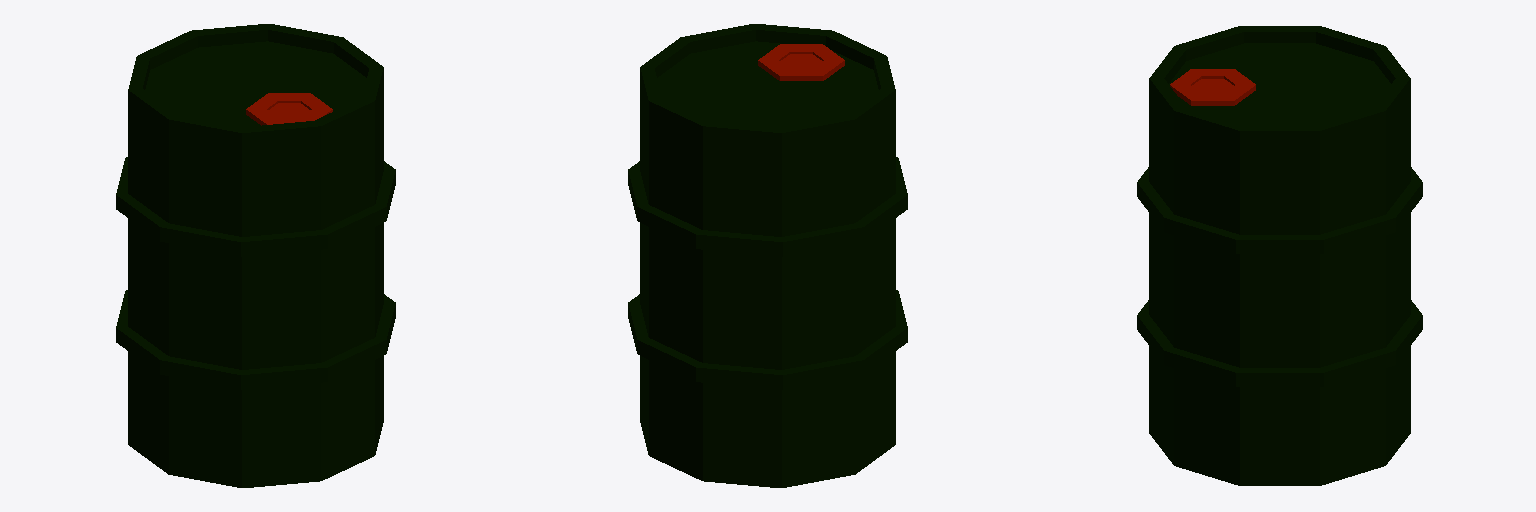
Rendered from OilDrum_01.obj.
3 renders of one model, left to right at view 1: azimuth 30°, elevation 25°; view 2: azimuth 150°, elevation 25°; view 3: azimuth 270°, elevation 25°, orthographic.
Parts seen in each view (by area): view 1: OilDrum_01_Cylinder.004; view 2: OilDrum_01_Cylinder.004; view 3: OilDrum_01_Cylinder.004.
Boxes of the visible parts, x1=… form: OilDrum_01_Cylinder.004: x1=116, y1=24, x2=395, y2=487; OilDrum_01_Cylinder.004: x1=628, y1=24, x2=907, y2=487; OilDrum_01_Cylinder.004: x1=1137, y1=26, x2=1422, y2=485.
Size of the model in its own units: 3.26 by 4.7 by 3.43.